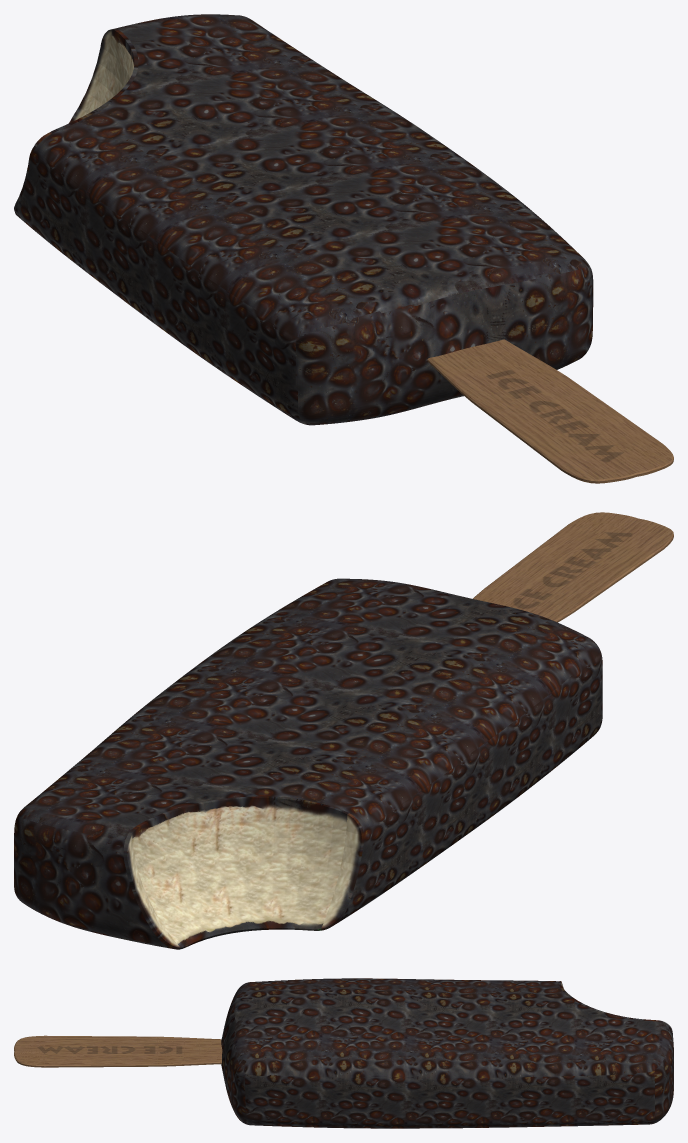
Rendered from IceCream.FBX.
The picture shows the model from 3 angles, top to bottom: view 1: azimuth 30°, elevation 25°; view 2: azimuth 150°, elevation 25°; view 3: azimuth 270°, elevation 25°; orthographic projection. The views are drawn at different scales.
Parts seen in each view (by area): view 1: sub01, Line03, Object01; view 2: sub01, Object01, Line03; view 3: sub01, Line03, Object01.
Boxes of the visible parts, bbox=[...] form: sub01: bbox=[15, 14, 593, 425]; Line03: bbox=[427, 339, 673, 483]; Object01: bbox=[14, 28, 138, 211]; sub01: bbox=[14, 578, 602, 948]; Object01: bbox=[123, 796, 364, 949]; Line03: bbox=[473, 512, 673, 622]; sub01: bbox=[221, 978, 673, 1128]; Line03: bbox=[14, 1035, 222, 1067]; Object01: bbox=[558, 981, 672, 1031].
Size of the model in its own units: 91.03 by 33.95 by 264.
